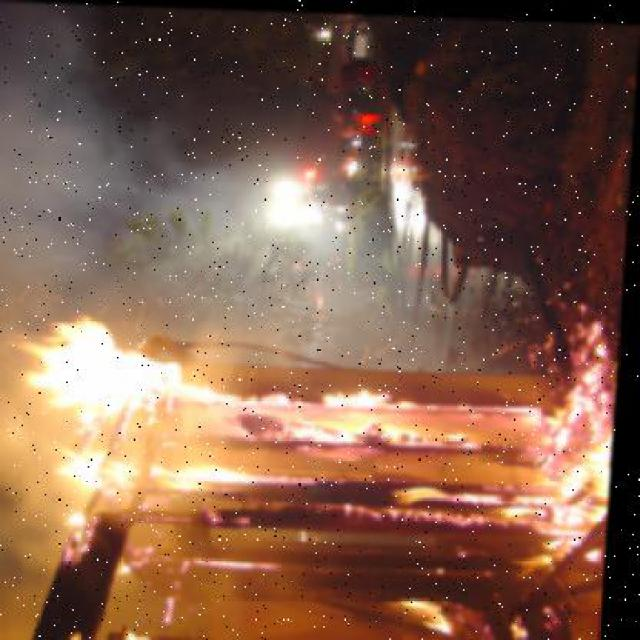fire: (1, 307, 624, 523)
